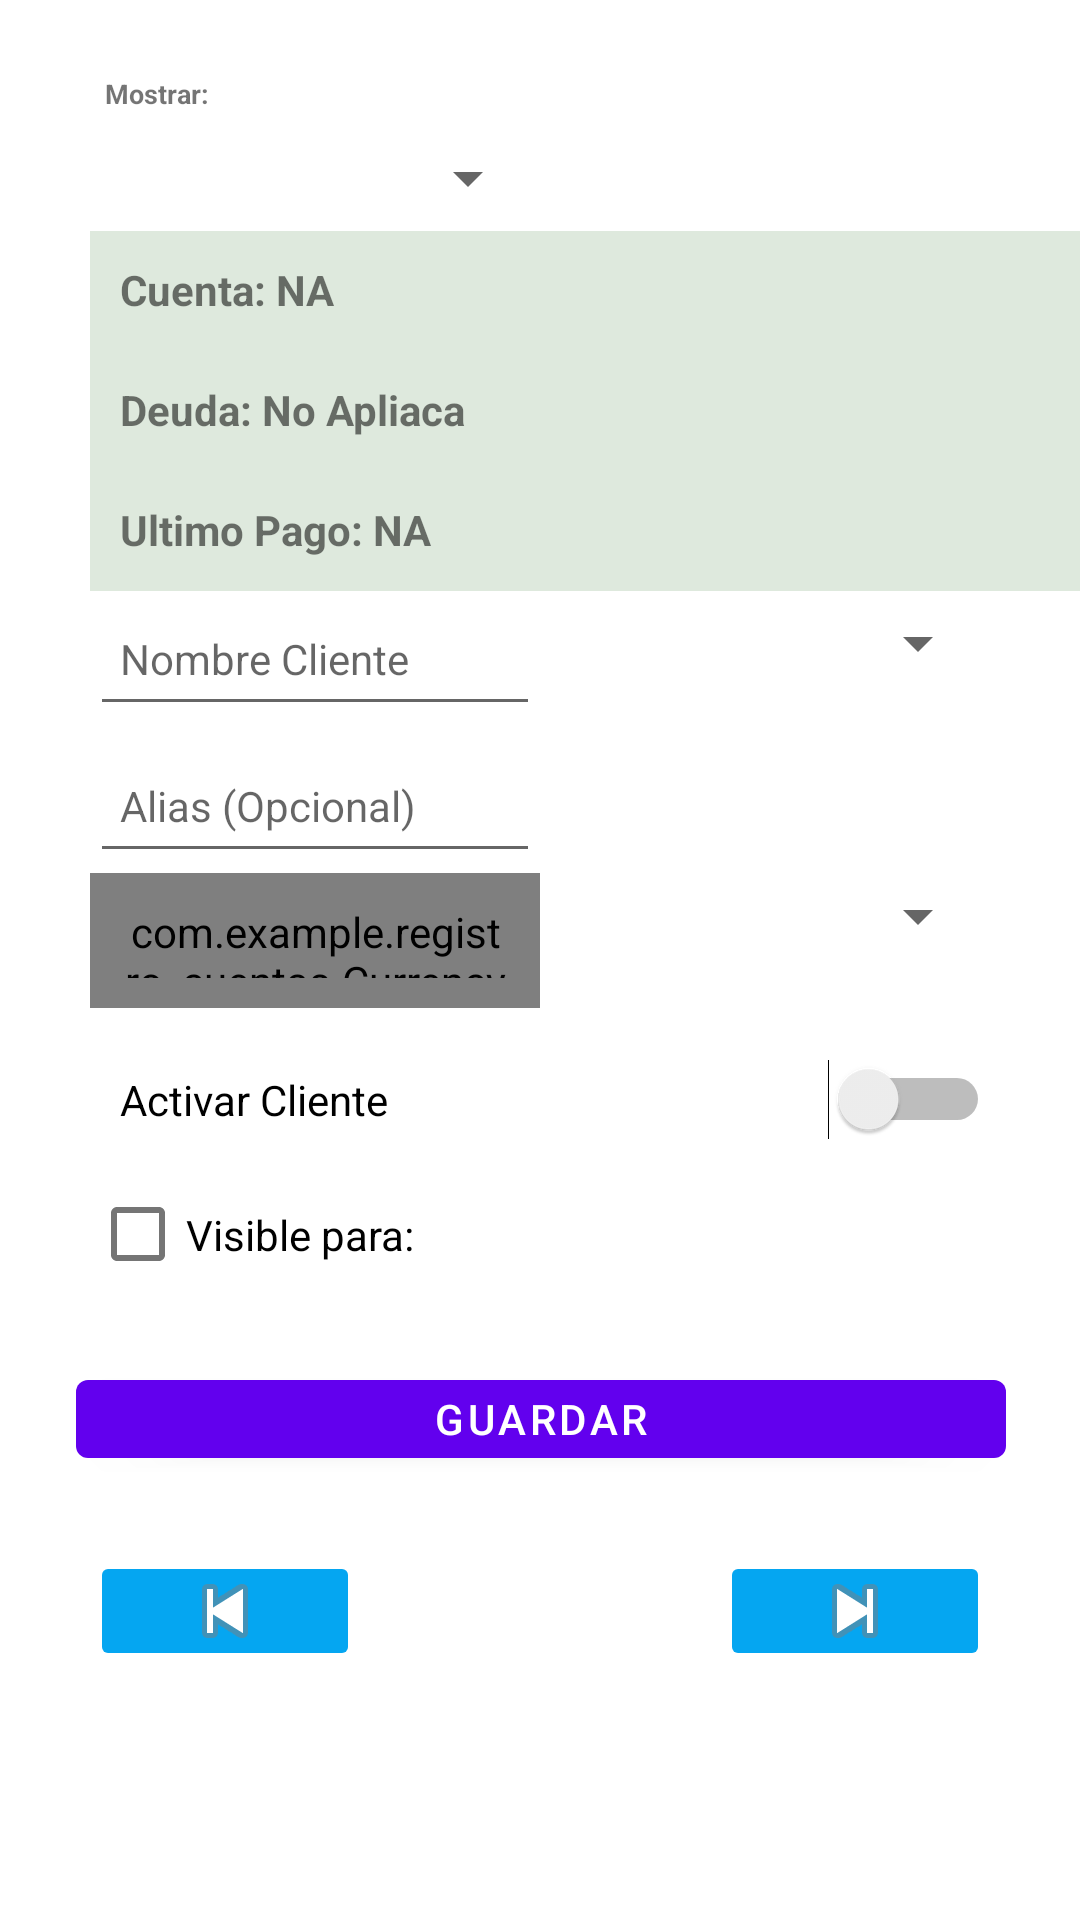

Icon bounding boxes for this 1080*1920 phone screenshot, format (x1, y1, x2, y2):
next: (732, 1569, 978, 1653)
previous: (102, 1569, 348, 1653)
